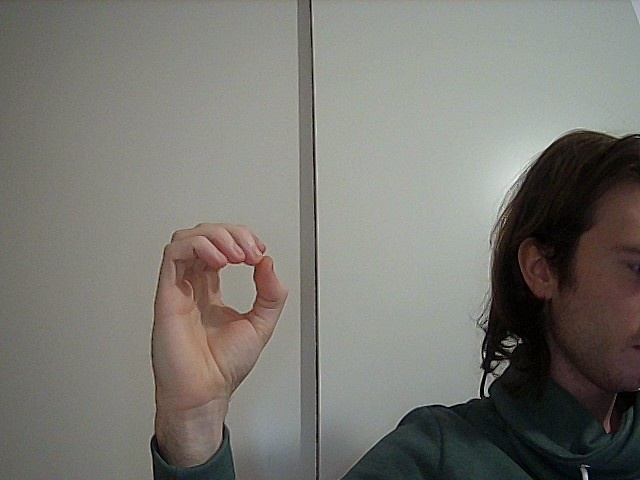o: (146, 213, 290, 394)
